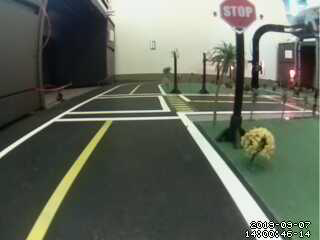Stop_Sign: (218, 1, 264, 32)
